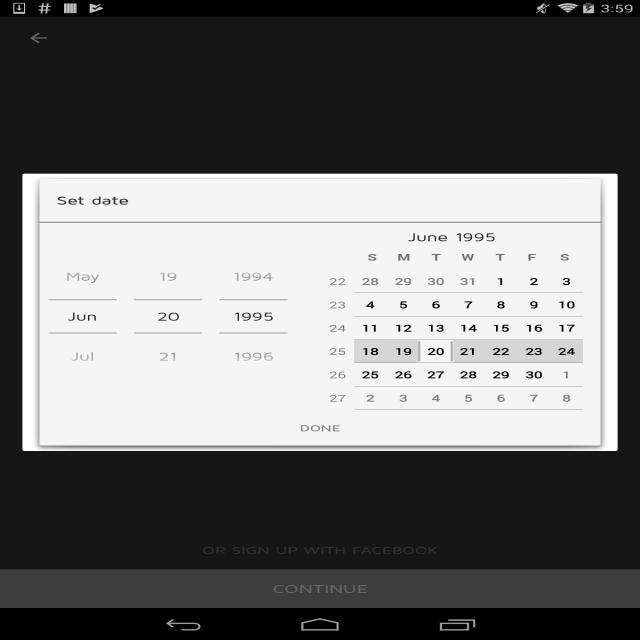Button: (39, 410, 600, 446), (48, 332, 117, 377), (219, 332, 288, 377), (134, 332, 202, 377), (48, 256, 117, 300), (219, 256, 288, 300), (134, 256, 202, 300)
EditText: (48, 300, 117, 332), (219, 300, 288, 332), (134, 300, 202, 332)
ImageView: (322, 267, 583, 268)
TextView: (56, 193, 584, 207), (408, 223, 496, 251), (419, 251, 452, 263), (548, 251, 581, 263), (324, 251, 356, 263), (356, 251, 388, 263), (388, 251, 420, 263), (452, 251, 484, 263), (484, 251, 516, 263), (516, 251, 548, 263)
